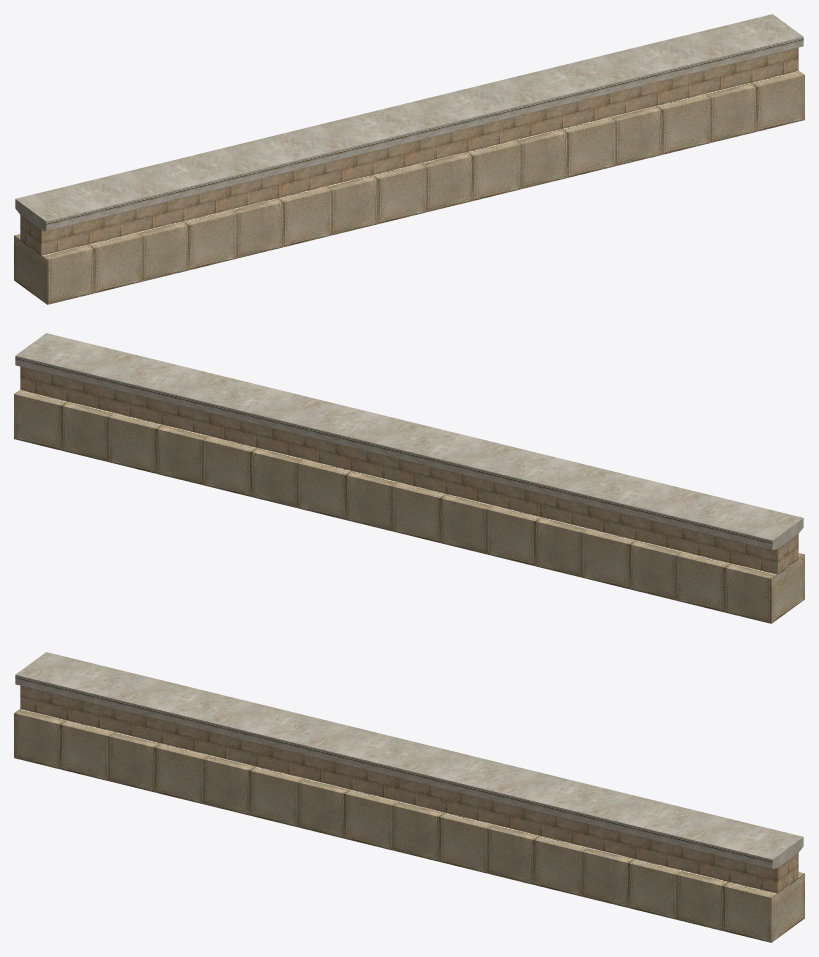
Rendered from thm_nboo_imprv_pristine_wall_sml_s01_l0.fbx.
The picture shows the model from 3 angles, top to bottom: view 1: azimuth 30°, elevation 25°; view 2: azimuth 150°, elevation 25°; view 3: azimuth 330°, elevation 25°; orthographic projection.
Parts seen in each view (by area): view 1: mesh_node; view 2: mesh_node; view 3: mesh_node.
Part boxes in pixels (bbox=[...]): mesh_node: bbox=[14, 14, 804, 304]; mesh_node: bbox=[14, 333, 804, 623]; mesh_node: bbox=[14, 652, 804, 942].
Size of the model in its own units: 18.96 by 1.97 by 1.45.
